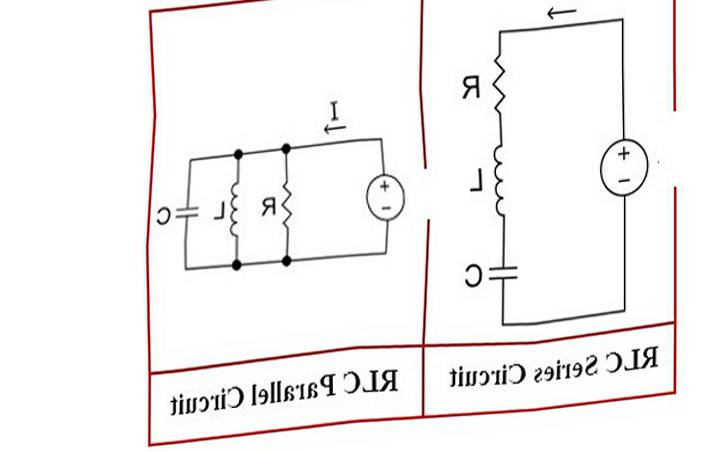Battery: (582, 124, 662, 207), (355, 161, 411, 233)
